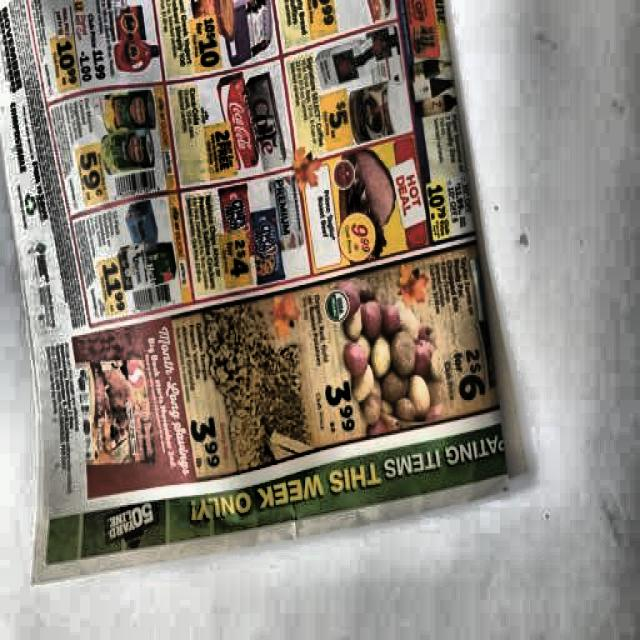paper: (0, 0, 512, 541)
